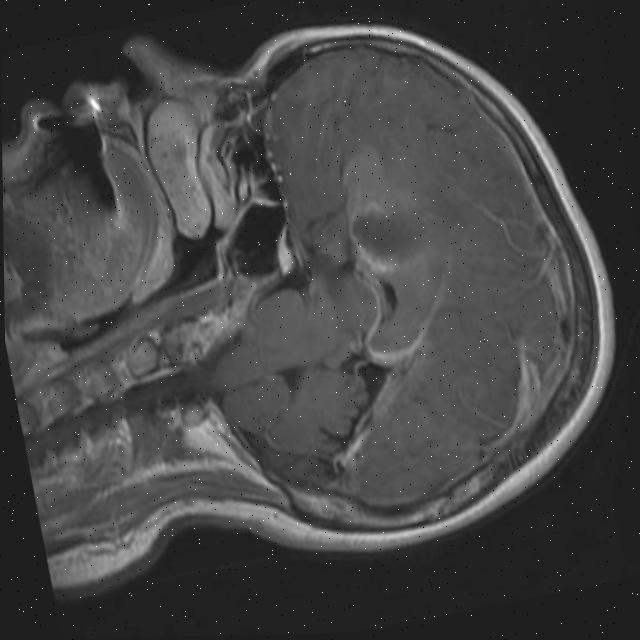Glioma: (342, 192, 432, 281)
